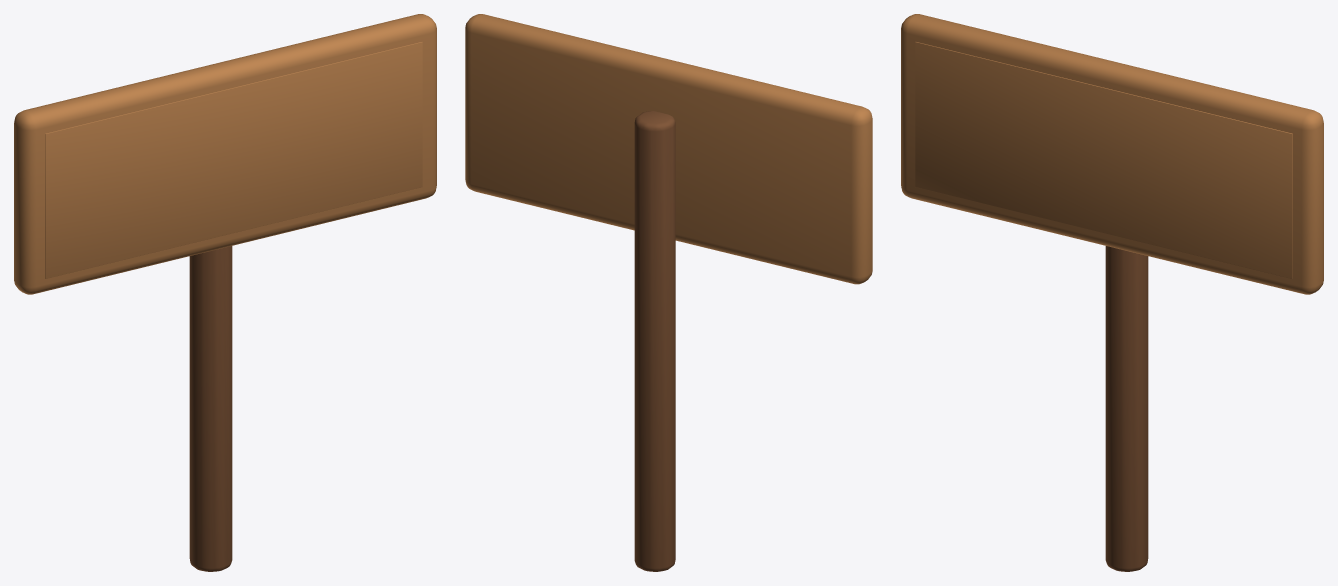
The model's file is placa.glb.
The picture shows the model from 3 angles, left to right: view 1: azimuth 30°, elevation 25°; view 2: azimuth 150°, elevation 25°; view 3: azimuth 330°, elevation 25°; orthographic projection. The views are drawn at different scales.
Visible parts, largest first — view 1: placa_face, placa_tabua, Cylinder; view 2: placa_tabua, Cylinder; view 3: placa_face, placa_tabua, Cylinder.
Part boxes in pixels (x1,y1,x2,y2): placa_face: (45, 42, 422, 278); placa_tabua: (14, 14, 436, 294); Cylinder: (189, 246, 232, 571); placa_tabua: (465, 14, 872, 284); Cylinder: (634, 111, 675, 571); placa_face: (915, 42, 1292, 278); placa_tabua: (901, 14, 1323, 294); Cylinder: (1105, 246, 1148, 571).
Bounding box in the file's own units: 1.5 × 1.76 × 0.2099.
